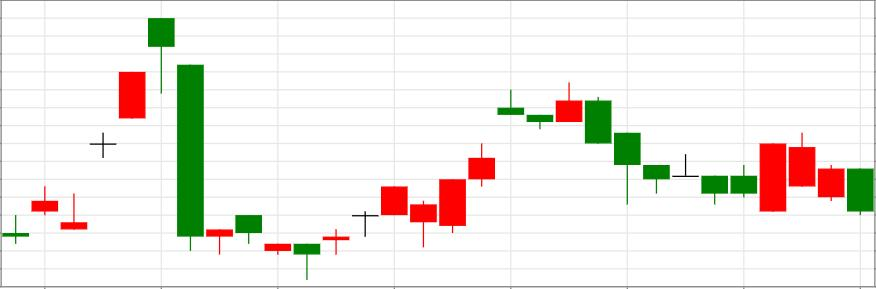hanging_man_fall: (60, 18, 174, 231)
